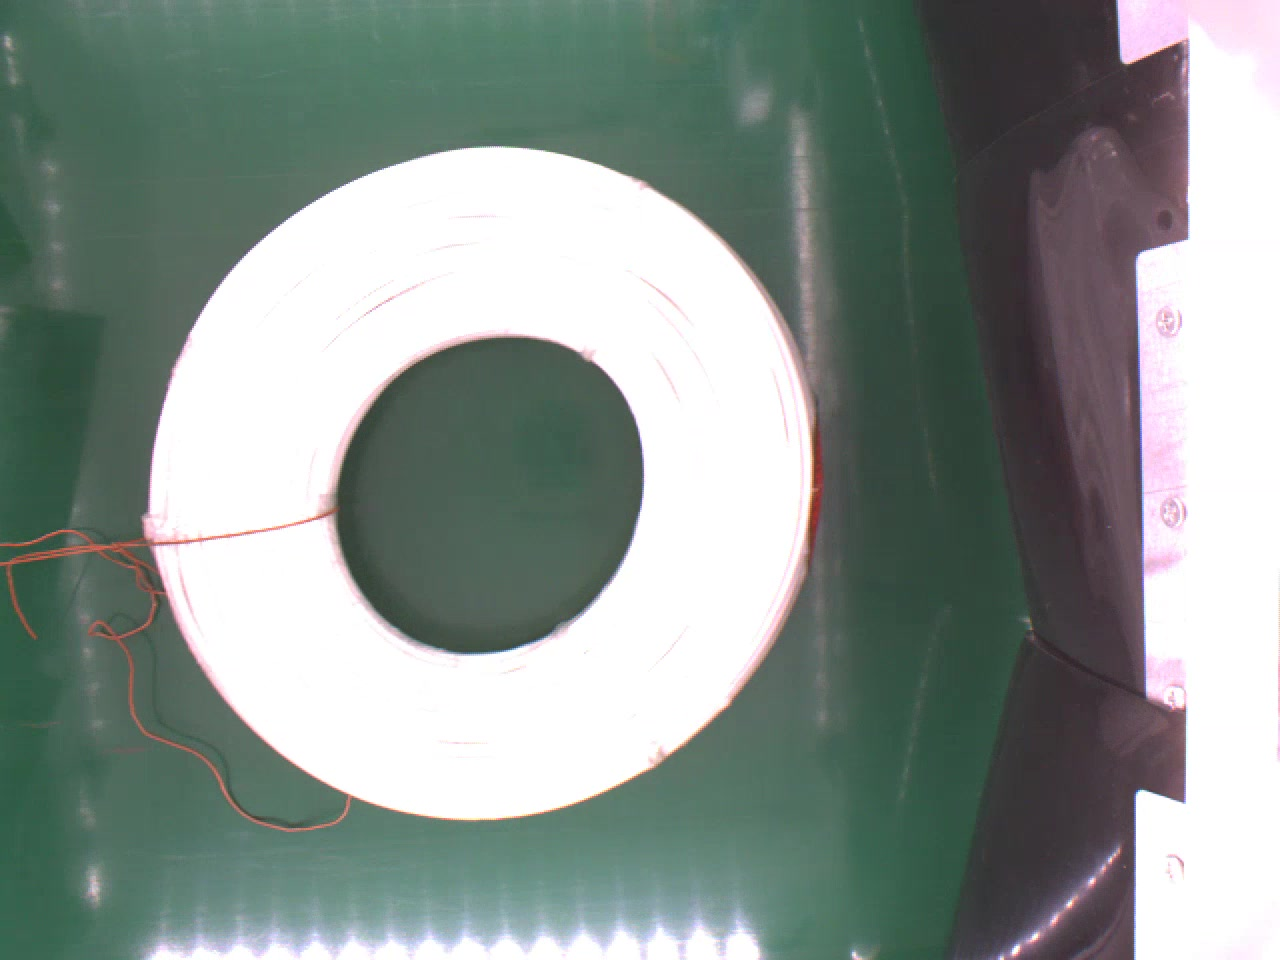white: (142, 140, 826, 822)
